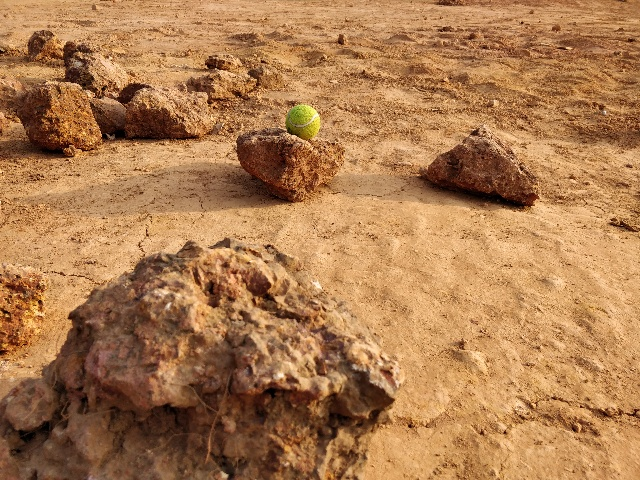ball: (281, 102, 324, 141)
